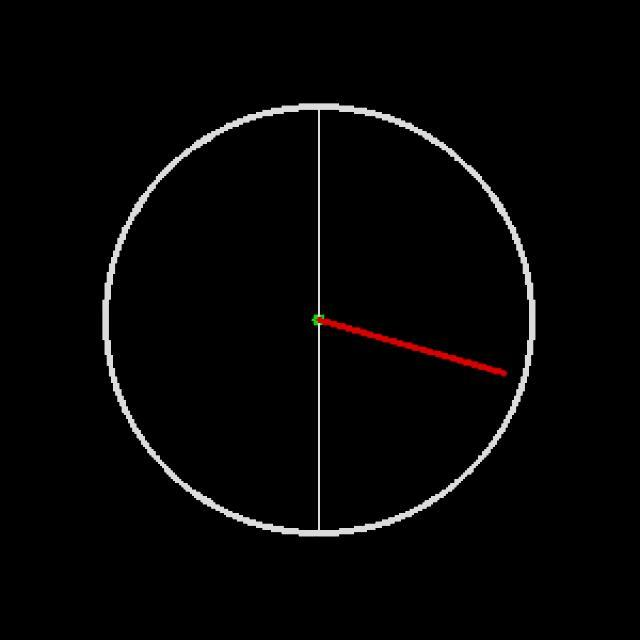Needle_Tip: (466, 338, 532, 400)
Needle_base: (280, 284, 345, 345)
